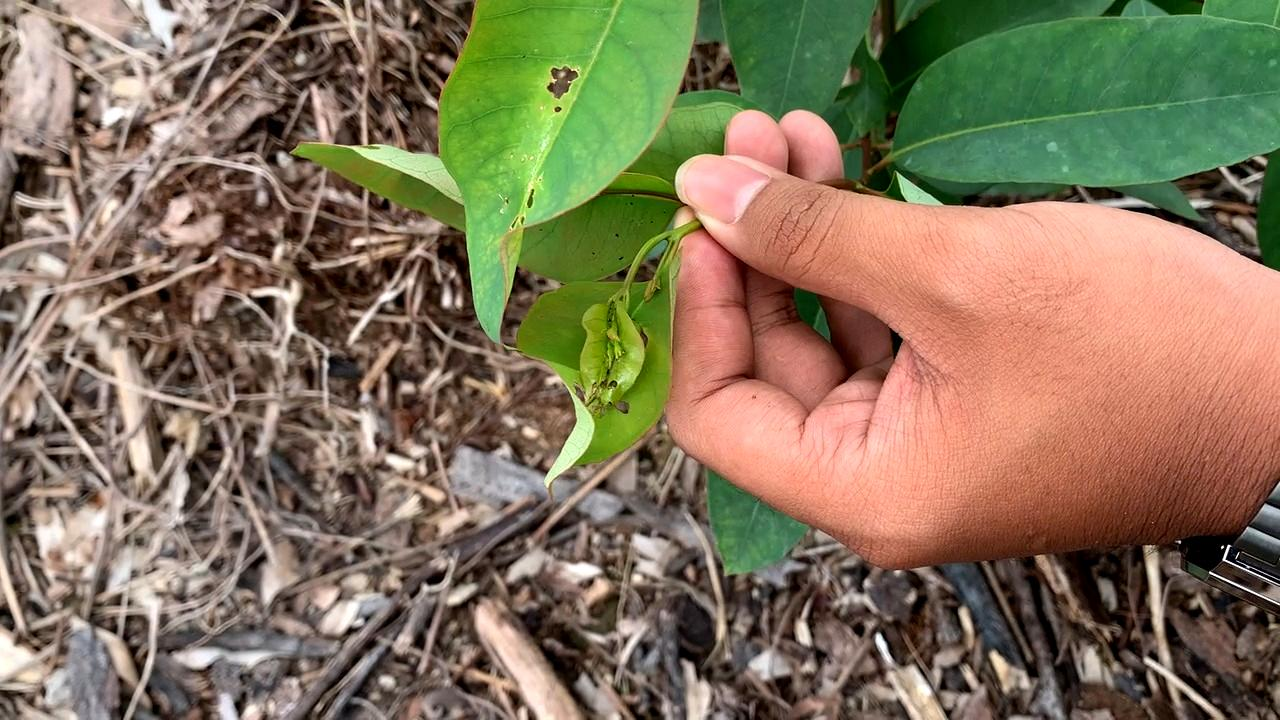Leaf Roller - Leaf: (569, 282, 660, 435)
